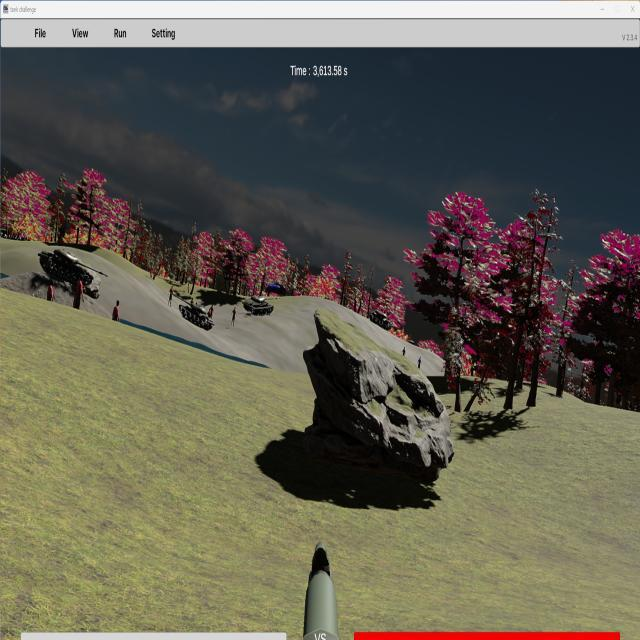Tank: (37, 247, 108, 289), (178, 299, 215, 332), (243, 295, 281, 316)
